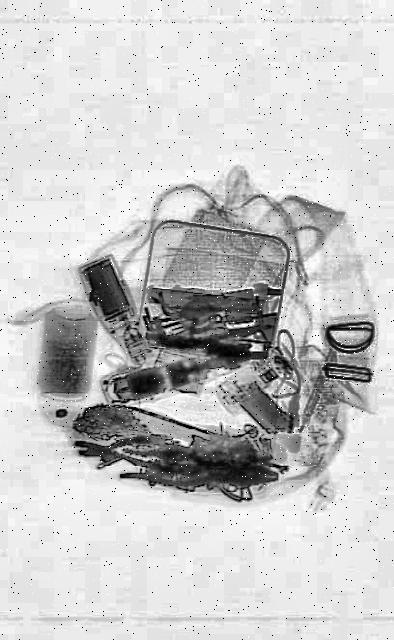Pliers: (74, 429, 178, 471)
